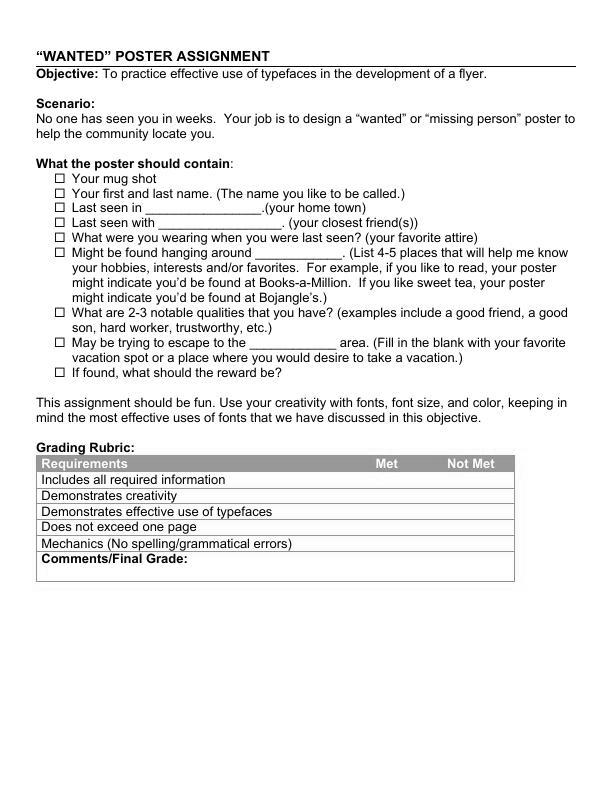check_box: (52, 305, 67, 320), (52, 201, 69, 214), (52, 230, 67, 244), (53, 367, 68, 380), (53, 172, 67, 185), (52, 215, 66, 228), (52, 335, 66, 348), (54, 246, 67, 259), (54, 187, 67, 199)
input: (144, 203, 264, 217), (158, 219, 281, 231), (255, 247, 342, 262), (248, 338, 336, 351)
table: (33, 452, 521, 585)
text: (34, 94, 578, 144), (71, 260, 570, 305), (34, 393, 572, 427), (71, 305, 572, 334), (34, 69, 492, 85), (68, 352, 469, 367), (73, 231, 480, 244), (72, 188, 409, 200), (28, 44, 272, 60), (338, 335, 569, 350), (349, 245, 570, 260), (31, 155, 236, 171), (70, 366, 284, 381), (72, 245, 252, 259), (70, 337, 245, 350), (288, 215, 421, 231), (33, 439, 136, 455), (267, 201, 366, 215), (72, 173, 161, 185), (73, 218, 156, 230), (71, 201, 142, 215)
